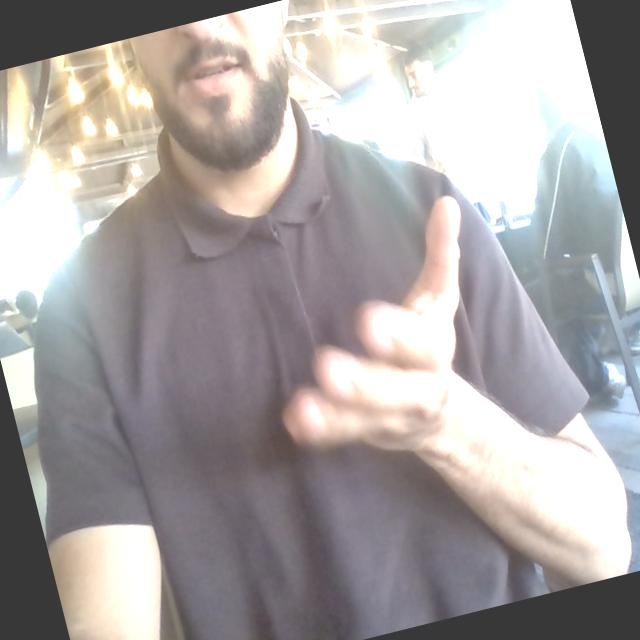Hand: (283, 197, 459, 451)
